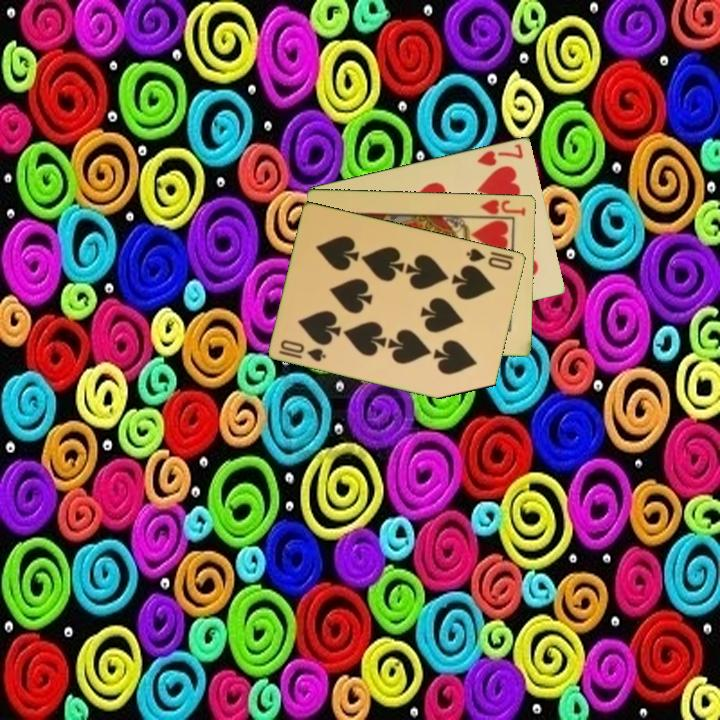10s: (276, 336, 329, 365), (463, 244, 515, 273)
7h: (473, 140, 526, 169)
Jh: (477, 196, 529, 218)
